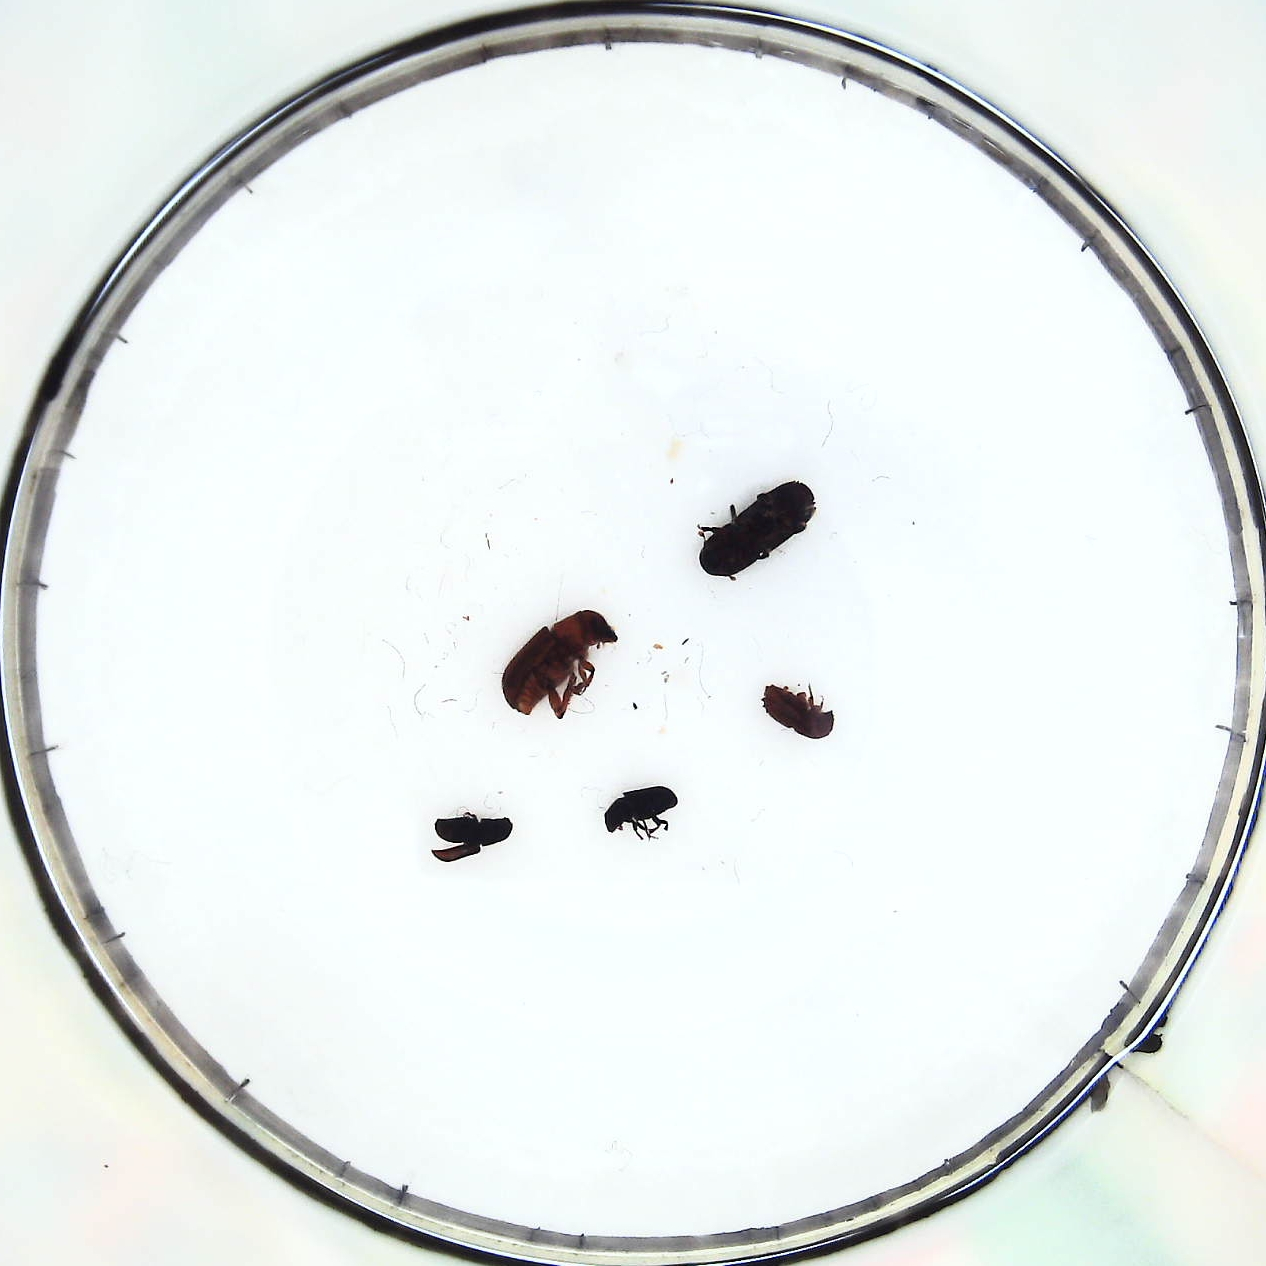Boerner: (687, 479, 821, 582)
Leconte: (500, 607, 619, 722)
Linnaeus: (761, 677, 834, 743)
armandi: (425, 812, 521, 859)
coleoptera: (604, 786, 678, 845)
